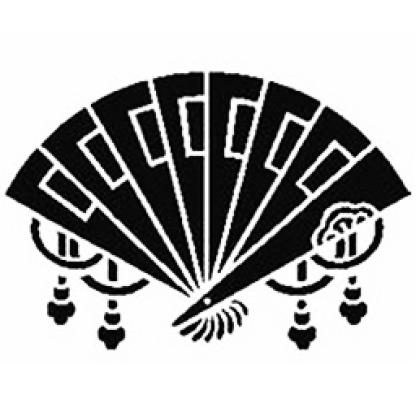kamon: (3, 66, 414, 356)
